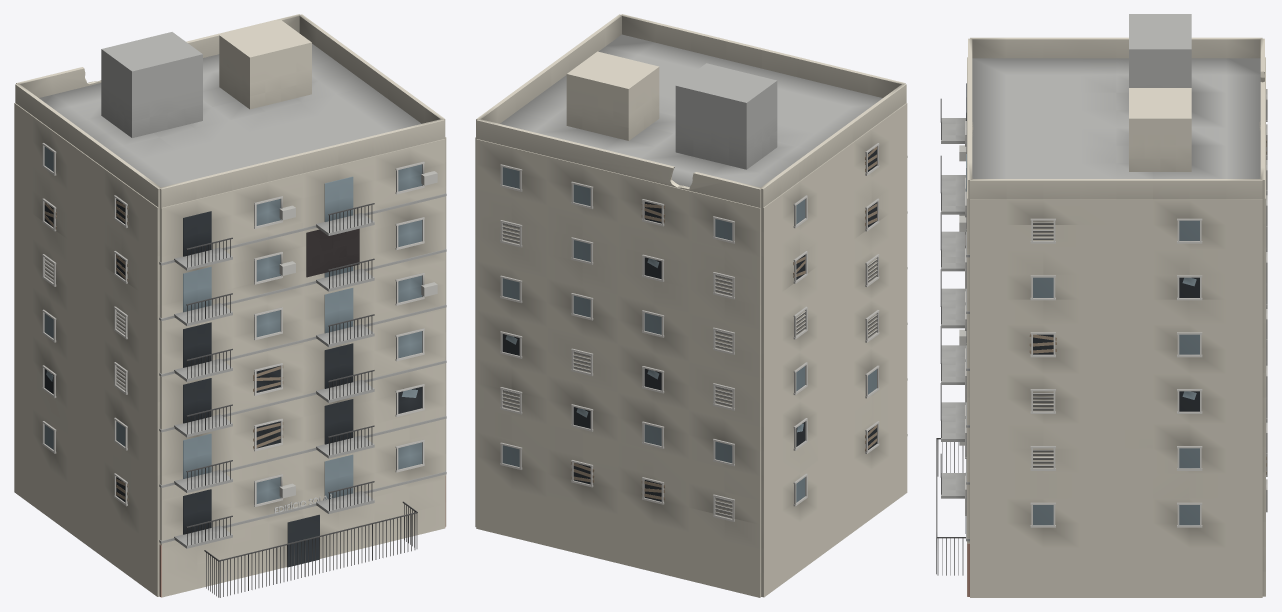
Rendered from apto_1.glb.
3 views of the same model, side by side, from view 1: azimuth 30°, elevation 25°; view 2: azimuth 150°, elevation 25°; view 3: azimuth 270°, elevation 25° (orthographic). The views are drawn at different scales.
Parts seen in each view (by area): view 1: ext, detalhe, longe; view 2: ext, longe, detalhe; view 3: ext, longe, detalhe.
Part boxes in pixels (x1,y1,x2,y2): ext: [14, 54, 446, 597]; detalhe: [42, 20, 437, 597]; longe: [15, 14, 446, 597]; ext: [475, 103, 907, 597]; longe: [476, 14, 907, 435]; detalhe: [500, 51, 879, 521]; ext: [967, 57, 1265, 597]; longe: [936, 37, 1264, 596]; detalhe: [936, 14, 1267, 575].
Size of what is drawn, in the model's own units: 16.48 by 24.6 by 15.87.
